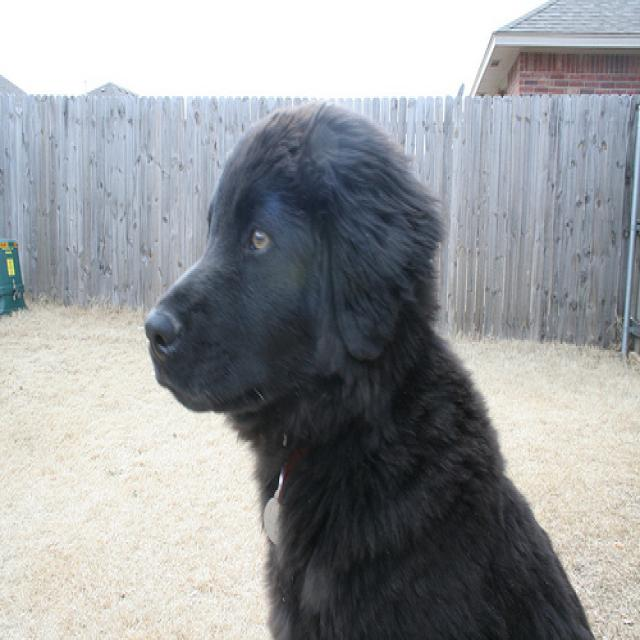dog-newfoundland: (140, 86, 600, 636)
